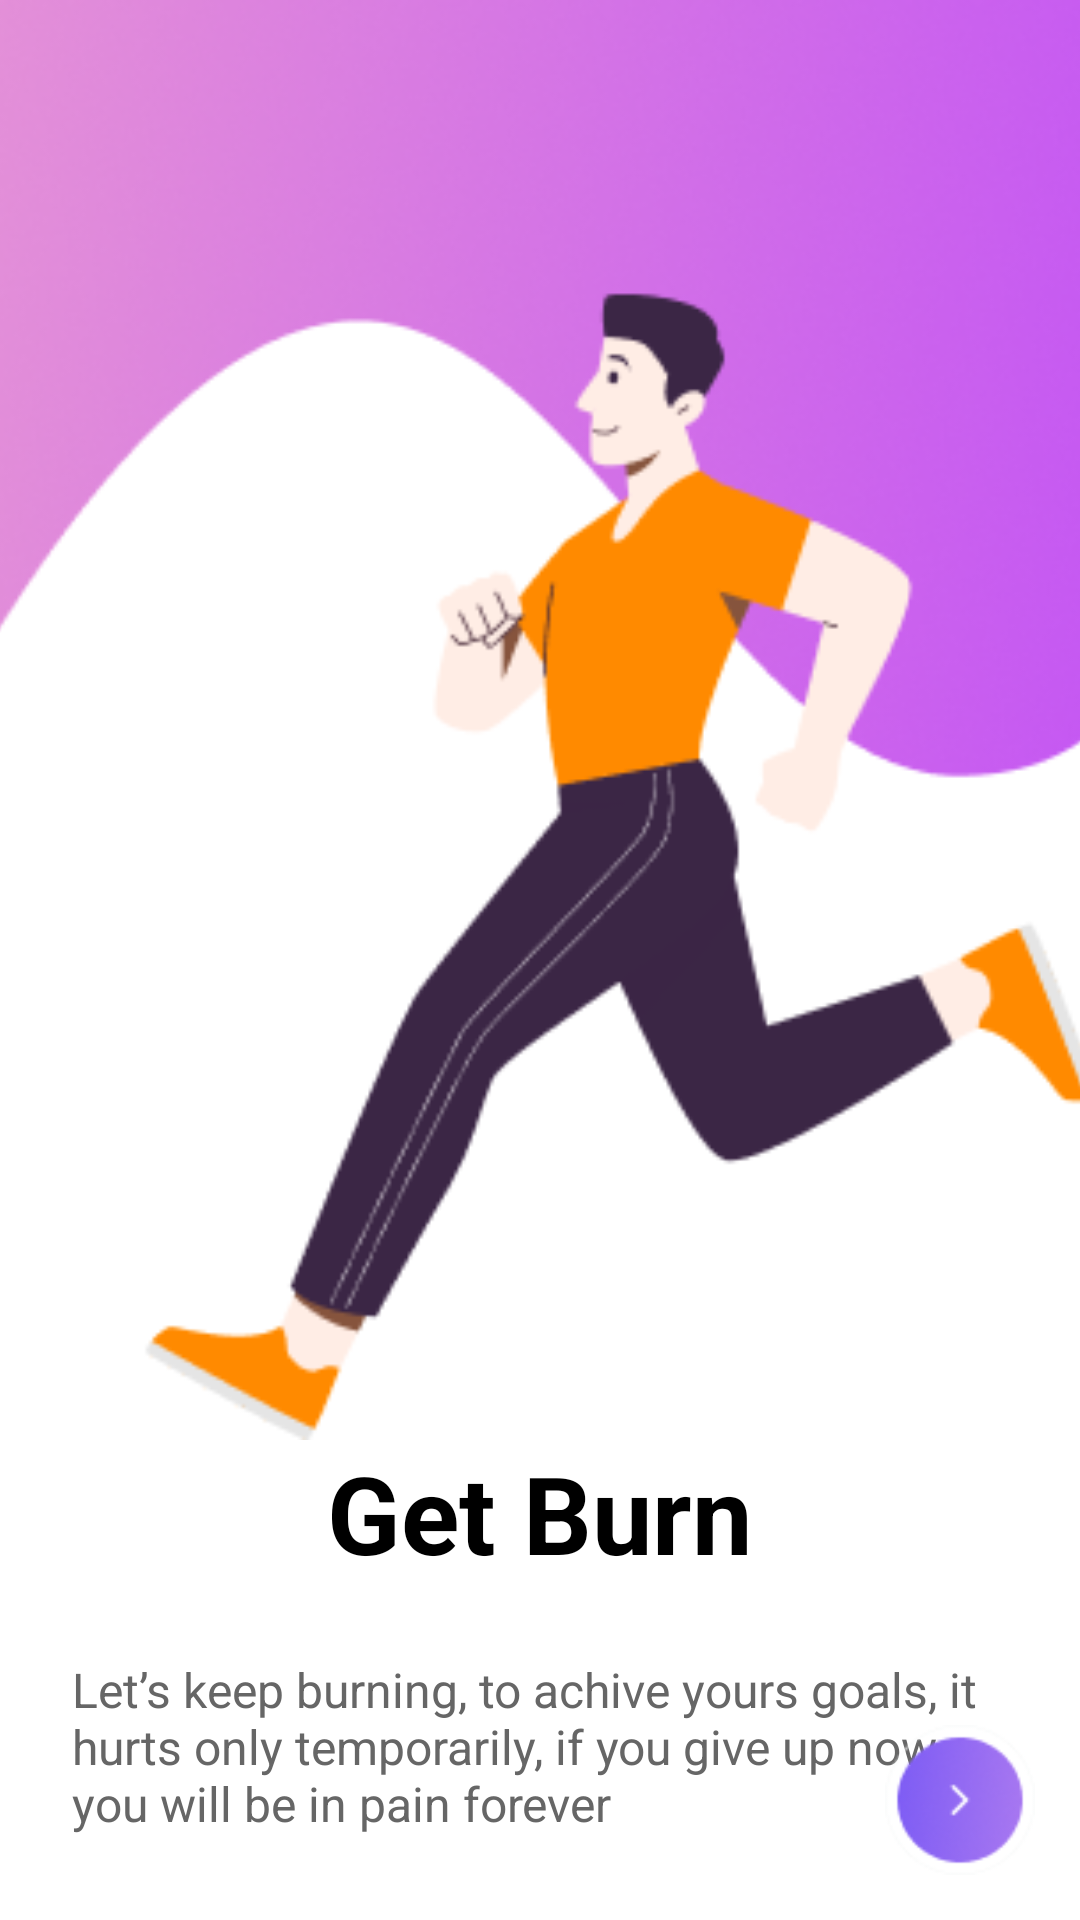

Named icons in this screenshot (1080 × 1920) and their bounding boxes, (x1, y1, x2, y2):
arrow right: (897, 1737, 1023, 1863)
